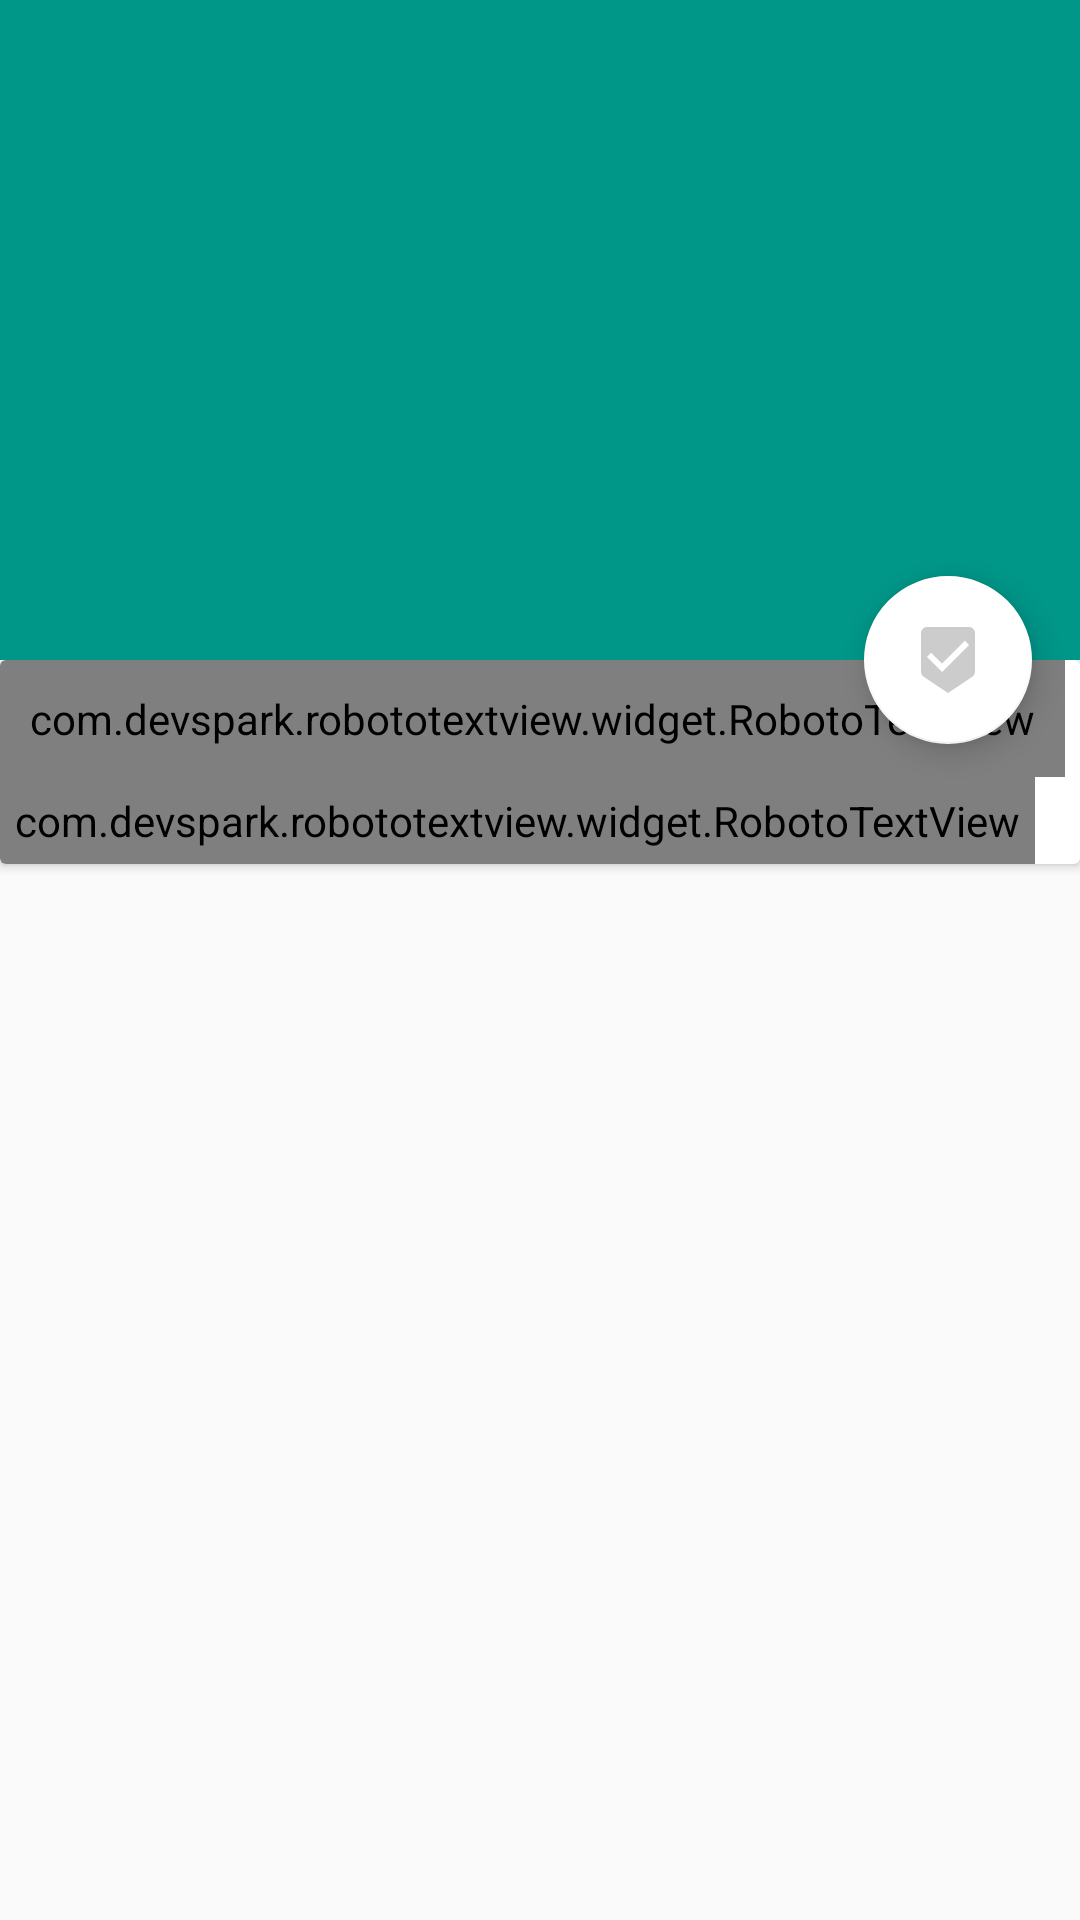

Screen size 1080 × 1920. Icon name, then its center in pixels as [x,y]:
checked: [948,660]
